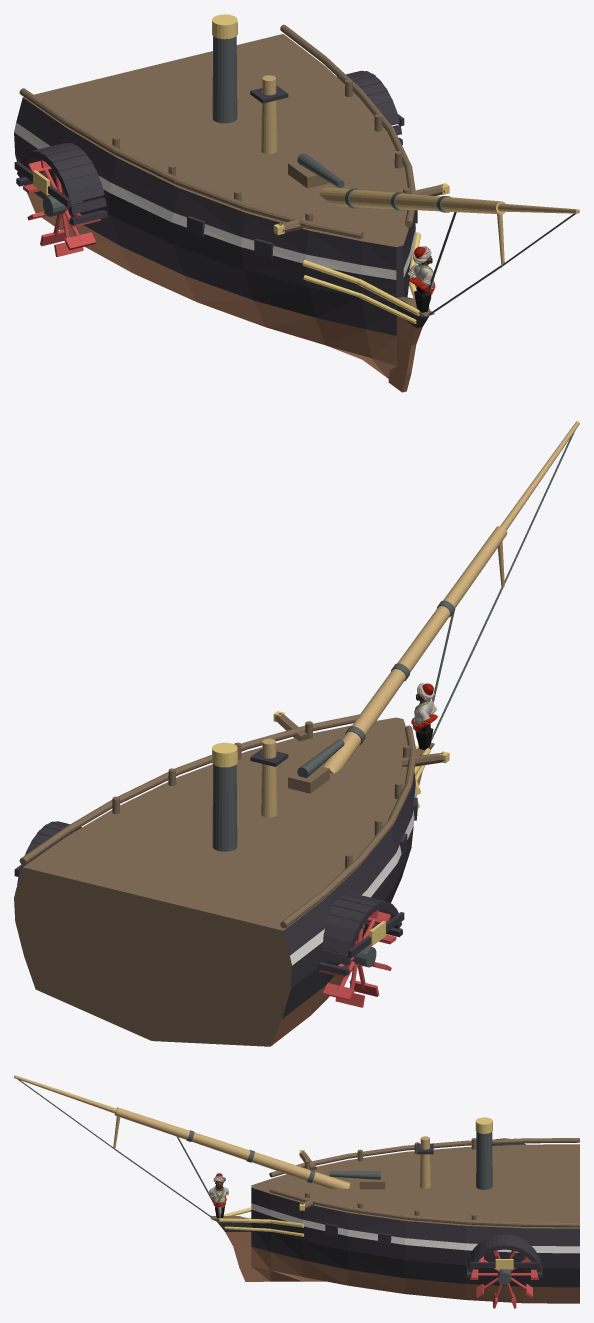
Rendered from sphinx.glb.
3 views of the same model, one above another, from view 1: azimuth 30°, elevation 25°; view 2: azimuth 150°, elevation 25°; view 3: azimuth 270°, elevation 25° (orthographic). The views are drawn at different scales.
Visible parts, largest first — view 1: sphinx_ParentBow, sphinx_Figurehead; view 2: sphinx_ParentBow, sphinx_Figurehead; view 3: sphinx_ParentBow, sphinx_Figurehead.
Boxes of the visible parts, x1=… form: sphinx_ParentBow: x1=14, y1=14, x2=579, y2=392; sphinx_Figurehead: x1=407, y1=246, x2=435, y2=312; sphinx_ParentBow: x1=14, y1=421, x2=579, y2=1046; sphinx_Figurehead: x1=411, y1=683, x2=437, y2=750; sphinx_ParentBow: x1=14, y1=1075, x2=579, y2=1308; sphinx_Figurehead: x1=209, y1=1173, x2=228, y2=1217.
Size of the model in its own units: 13.58 by 11.83 by 29.5.
Materials: 2 (2 with a texture image).
